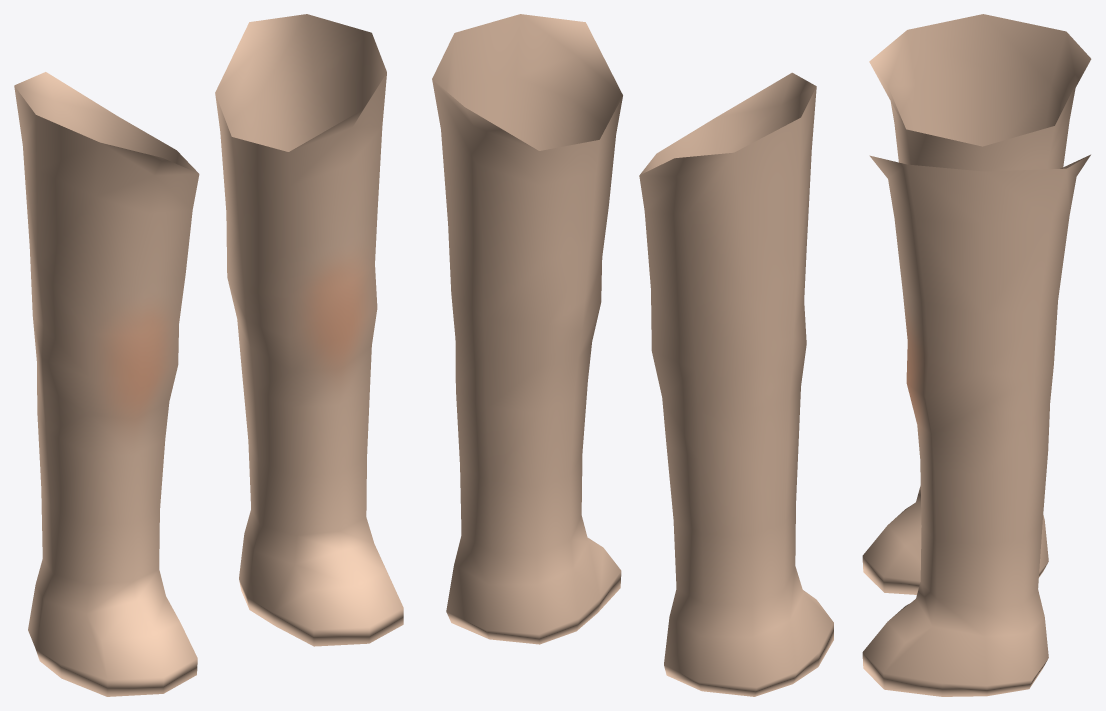
File: Body_LegC_1.fbx
3 renders of one model, left to right at view 1: azimuth 30°, elevation 25°; view 2: azimuth 150°, elevation 25°; view 3: azimuth 270°, elevation 25°, orthographic. The views are drawn at different scales.
Parts seen in each view (by area): view 1: Body_LegC_1; view 2: Body_LegC_1; view 3: Body_LegC_1.
Part boxes in pixels (box(x1,y1,x2,y2)): Body_LegC_1: box(14, 14, 403, 696); Body_LegC_1: box(432, 14, 833, 696); Body_LegC_1: box(862, 14, 1091, 696).
Size of the model in its own units: 33.18 by 51.84 by 20.39.
